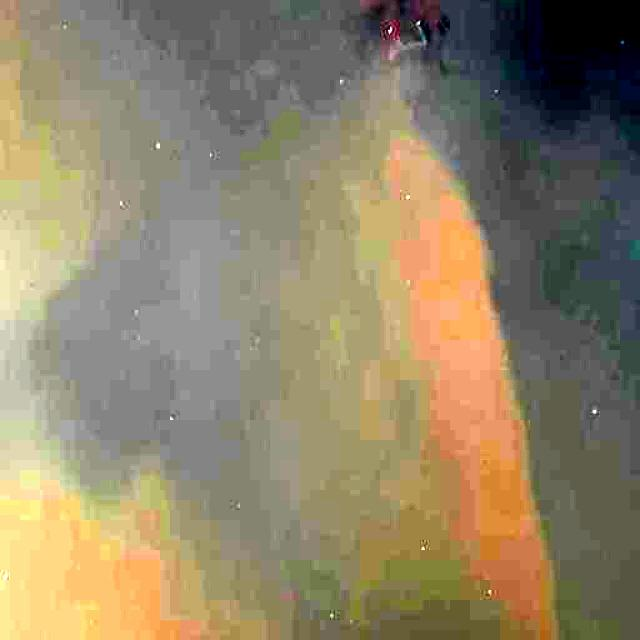drone: (289, 0, 456, 101)
